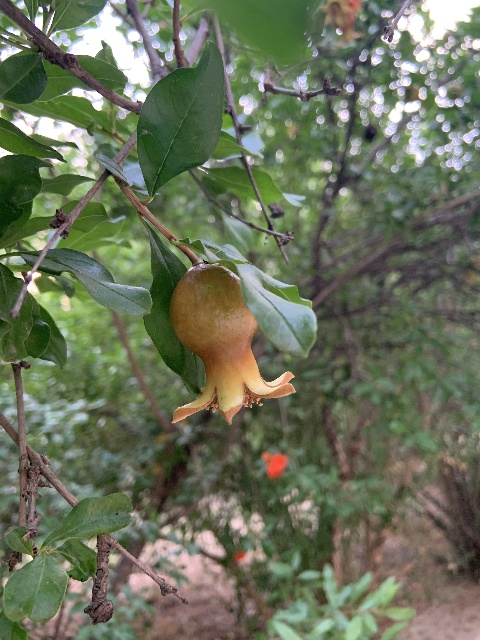early-fruit: (169, 264, 296, 427)
